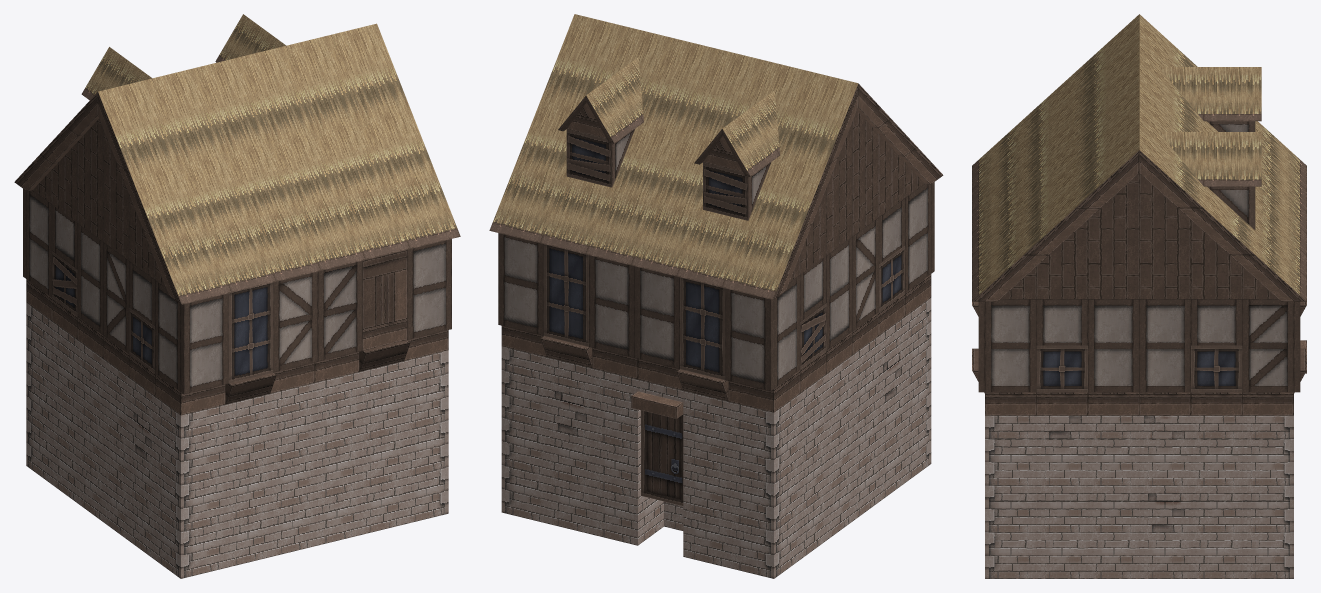
Rendered from building_a.gltf.
3 renders of one model, left to right at view 1: azimuth 30°, elevation 25°; view 2: azimuth 150°, elevation 25°; view 3: azimuth 270°, elevation 25°, orthographic.
Visible parts, largest first — view 1: building_a; view 2: building_a; view 3: building_a.
Part boxes in pixels (bbox=[...]): building_a: bbox=[14, 14, 460, 578]; building_a: bbox=[489, 14, 943, 578]; building_a: bbox=[972, 14, 1306, 578].
Bounding box in the file's own units: 6.25 × 9.25 × 6.5.
1 material, 1 textured.
